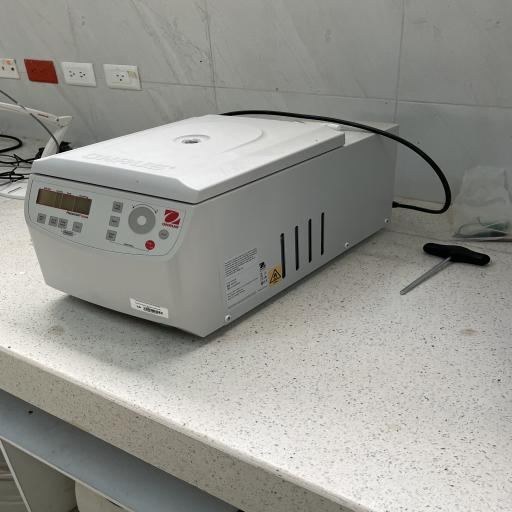Centrifuga_Ohaus_Frontier: (22, 104, 411, 346)
